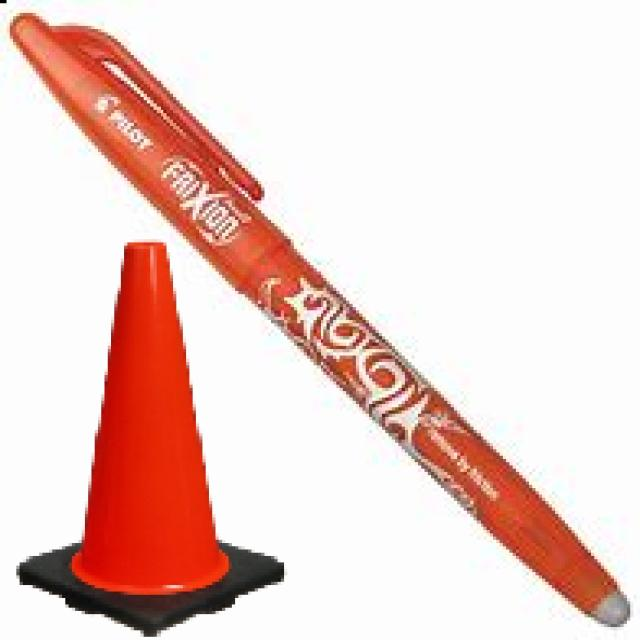traffic cone: (9, 235, 293, 640)
